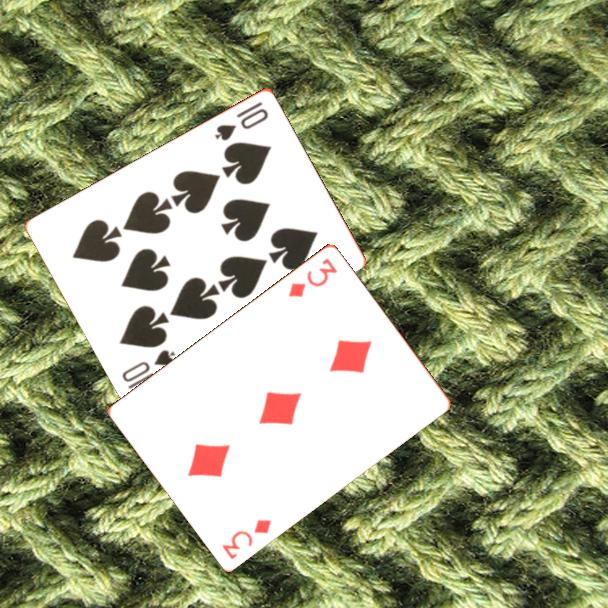d03: (218, 515, 274, 562), (285, 254, 340, 300)
s10: (211, 97, 271, 143), (118, 346, 178, 391)
